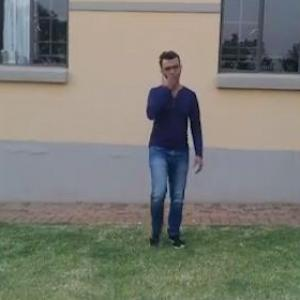follow: (140, 49, 198, 239)
